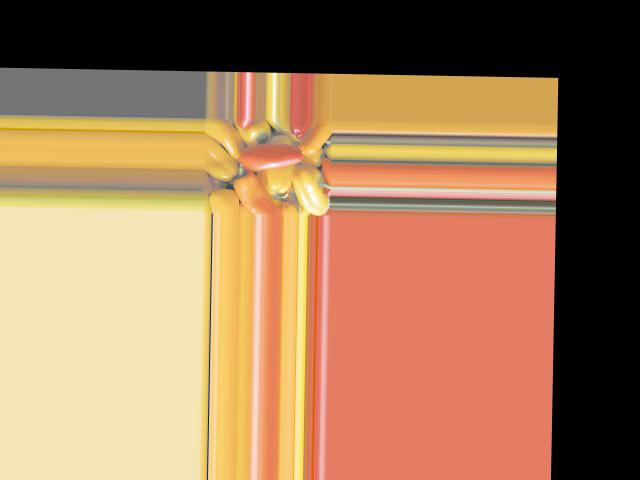bell_pepper: (289, 169, 331, 214)
